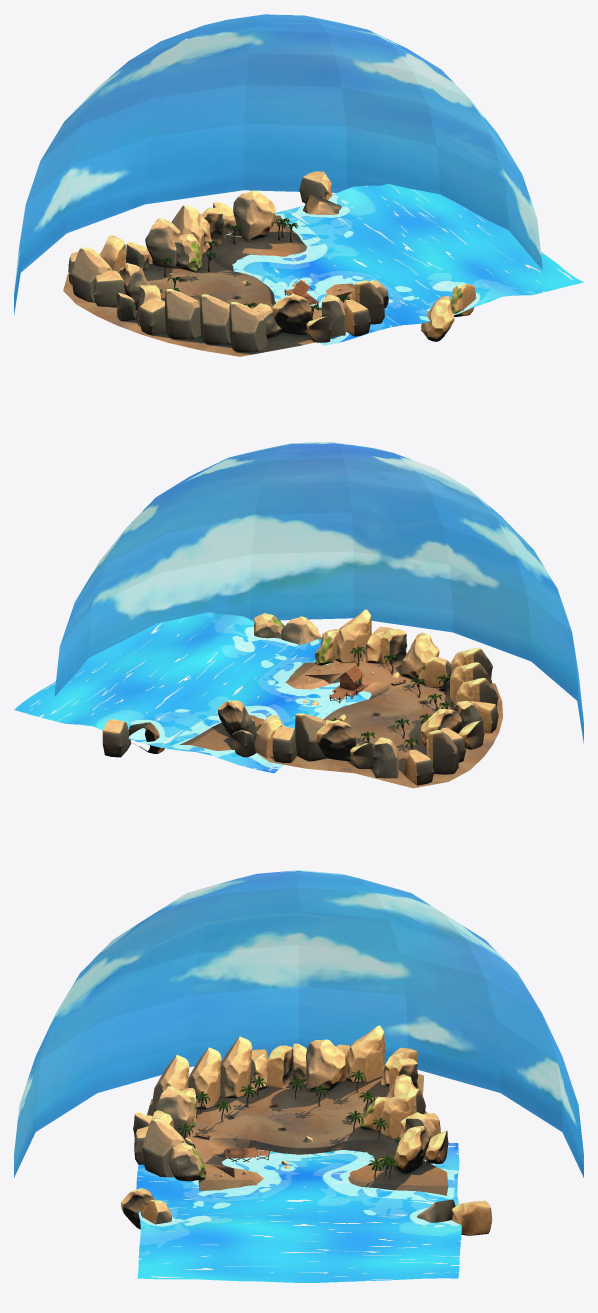
Rendered from Beach_Environment_v1.02.glb.
The picture shows the model from 3 angles, top to bottom: view 1: azimuth 30°, elevation 25°; view 2: azimuth 150°, elevation 25°; view 3: azimuth 270°, elevation 25°; orthographic projection. The views are drawn at different scales.
Parts seen in each view (by area): view 1: Ground, SeaPlane_animated02; view 2: Ground, SeaPlane_animated02; view 3: Ground, SeaPlane_animated02.
Part boxes in pixels (left/top/right/bottom): Ground: left=14, top=14, right=542, bottom=356; SeaPlane_animated02: left=226, top=184, right=583, bottom=345; Ground: left=54, top=442, right=583, bottom=788; SeaPlane_animated02: left=14, top=612, right=371, bottom=773; Ground: left=14, top=870, right=583, bottom=1235; SeaPlane_animated02: left=136, top=1143, right=461, bottom=1282.
Size of the model in its own units: 88.98 by 49.54 by 88.79.
Materials: 1 (1 with a texture image).
